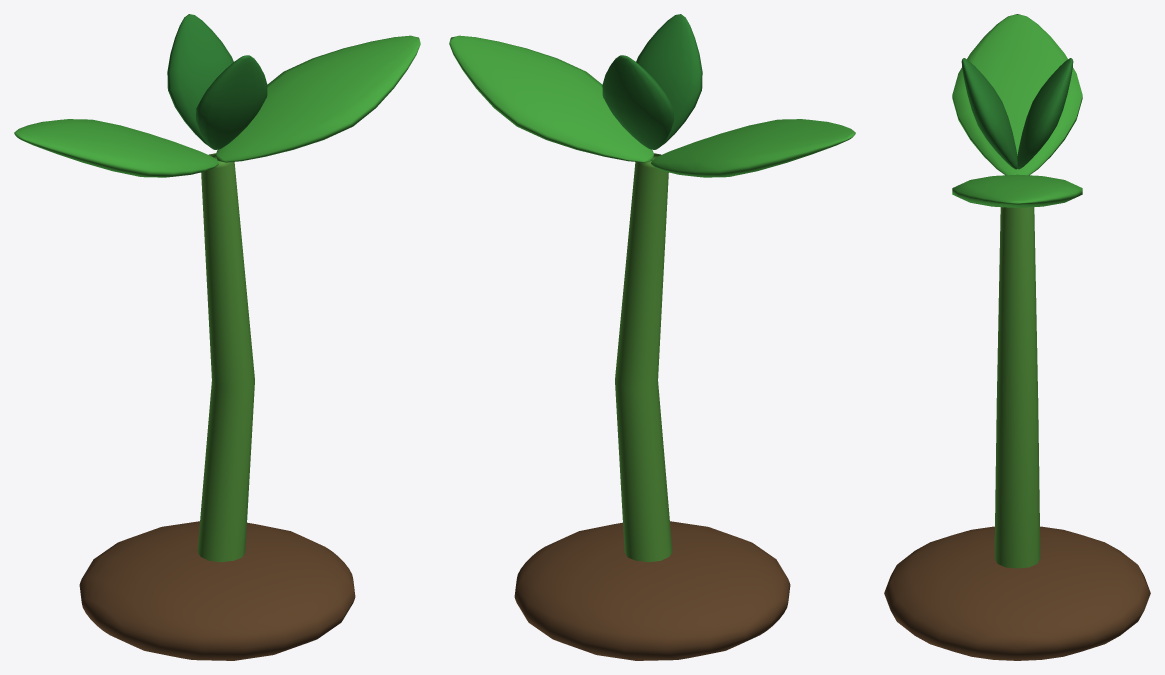
Rendered from sprout.obj.
The picture shows the model from 3 angles, left to right: view 1: azimuth 30°, elevation 25°; view 2: azimuth 150°, elevation 25°; view 3: azimuth 270°, elevation 25°; orthographic projection. The views are drawn at different scales.
Visible parts, largest first — view 1: mound, leaf, stem, leaf_dark; view 2: mound, leaf, stem, leaf_dark; view 3: mound, stem, leaf, leaf_dark.
Part boxes in pixels (x1=…): mound: x1=79, y1=521, x2=355, y2=660; leaf: x1=14, y1=35, x2=420, y2=177; stem: x1=197, y1=153, x2=254, y2=562; leaf_dark: x1=167, y1=14, x2=267, y2=149; mound: x1=514, y1=521, x2=790, y2=660; leaf: x1=449, y1=35, x2=855, y2=177; stem: x1=615, y1=153, x2=672, y2=562; leaf_dark: x1=602, y1=14, x2=702, y2=149; mound: x1=884, y1=526, x2=1150, y2=660; stem: x1=994, y1=207, x2=1040, y2=568; leaf: x1=952, y1=14, x2=1082, y2=207; leaf_dark: x1=961, y1=58, x2=1073, y2=169.
Size of the model in its own units: 0.151 by 0.213 by 0.09.
